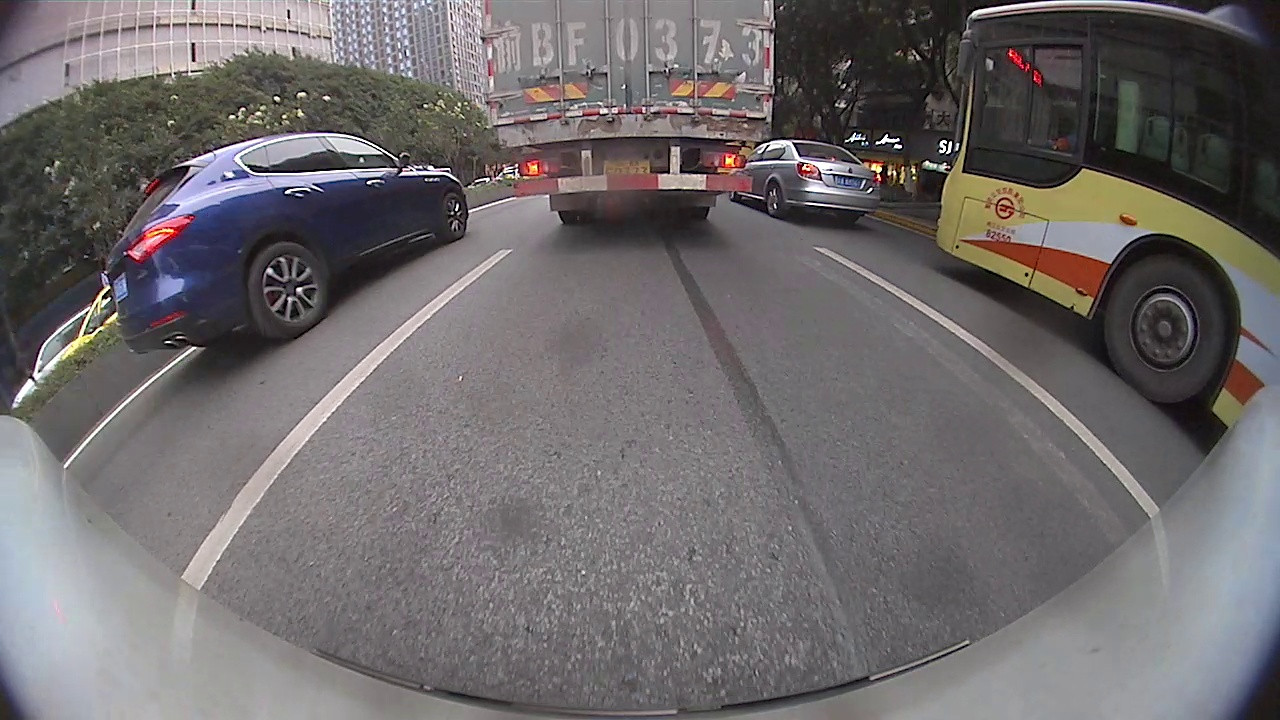bus: (931, 0, 1277, 428)
car: (93, 134, 472, 351), (730, 140, 883, 229)
front: (1101, 251, 1232, 405), (439, 188, 468, 243)
rear: (240, 238, 335, 344), (766, 183, 785, 218)
truck: (480, 0, 772, 222)
